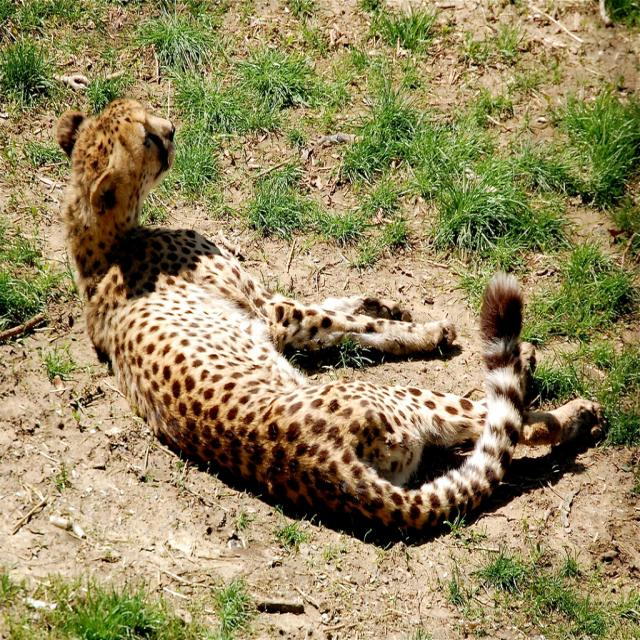Cheetah: (55, 96, 609, 539)
